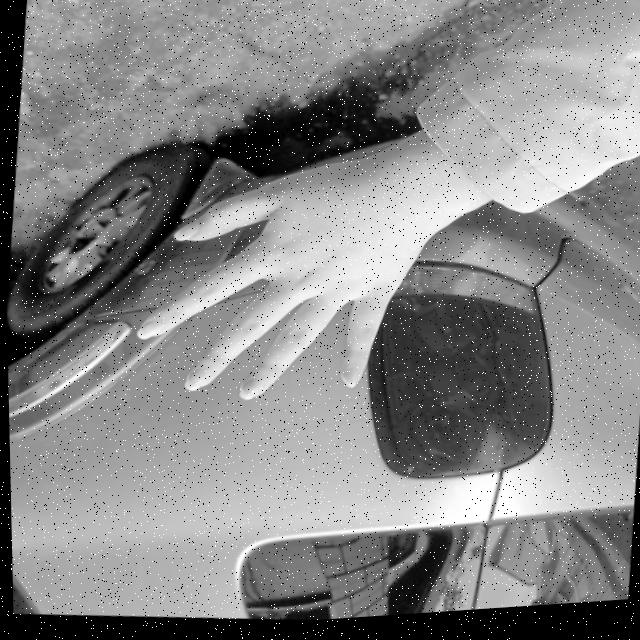hand: (124, 130, 436, 425)
